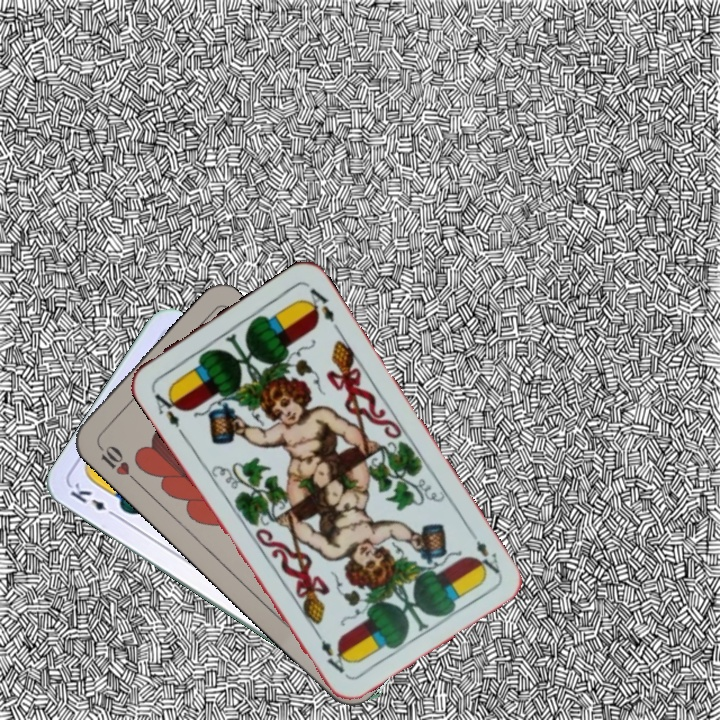EA: (148, 385, 183, 430), (469, 536, 503, 578)
EK: (66, 478, 120, 520)
H10: (93, 439, 140, 485)
